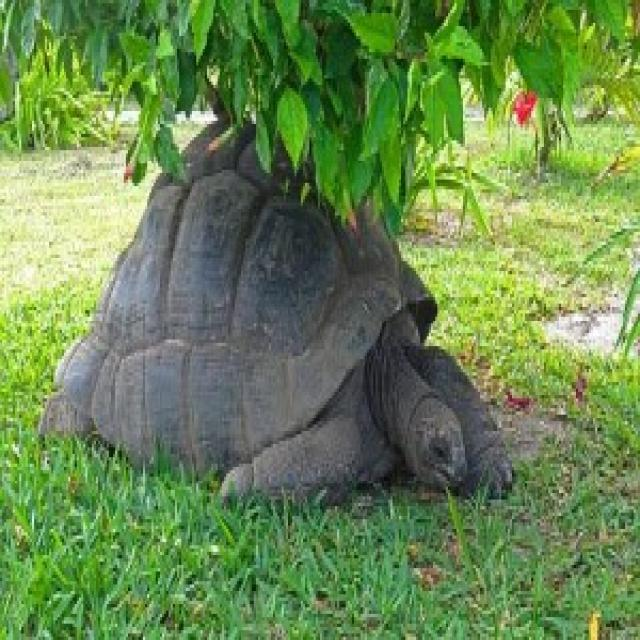Sea turtle: (64, 114, 499, 583)
